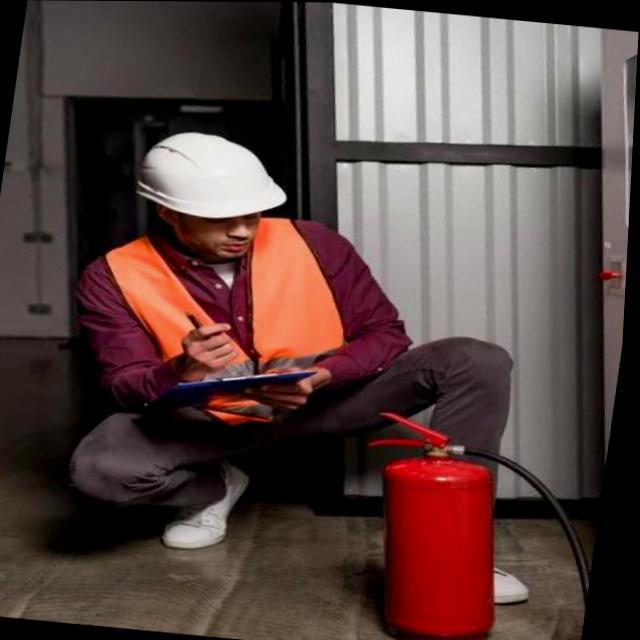FireExtinguisher: (337, 401, 614, 640)
